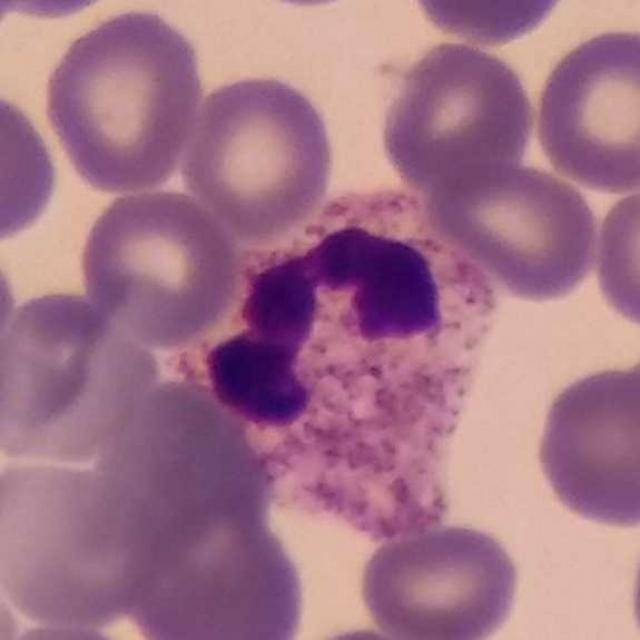Neutrophil: (200, 189, 512, 550)
RBC: (85, 377, 272, 566), (39, 2, 208, 196), (117, 477, 312, 640), (5, 455, 166, 633), (177, 69, 341, 239), (75, 183, 244, 347), (422, 158, 602, 304), (375, 36, 540, 192), (0, 286, 139, 465), (355, 518, 526, 640), (528, 356, 640, 532), (528, 21, 640, 194), (0, 83, 63, 248), (403, 0, 574, 47), (590, 176, 640, 336), (0, 238, 20, 391), (0, 0, 132, 22), (276, 623, 443, 640), (0, 552, 26, 639)
